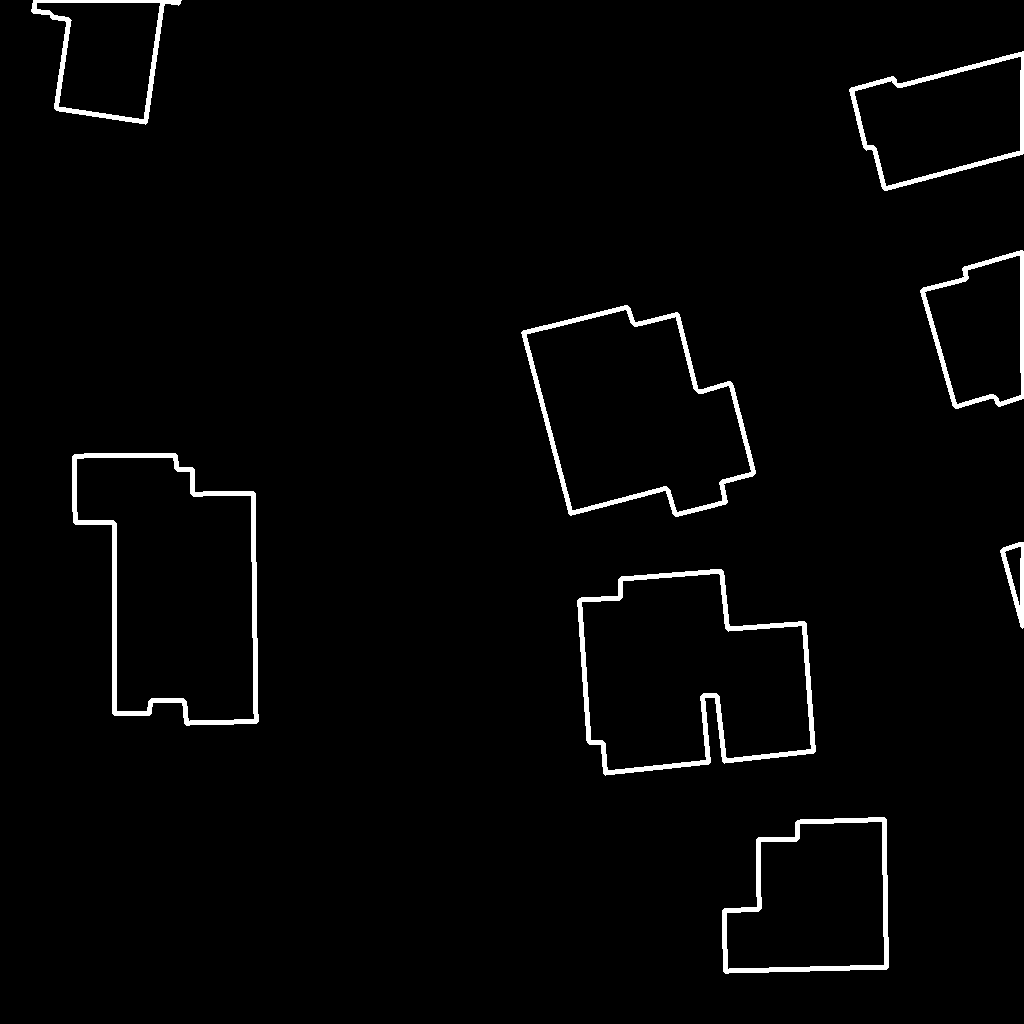building: (74, 455, 257, 724), (523, 307, 755, 516), (579, 571, 815, 774), (724, 819, 888, 972), (851, 53, 1024, 190), (33, 0, 180, 123), (922, 252, 1024, 408), (1002, 544, 1024, 629)
